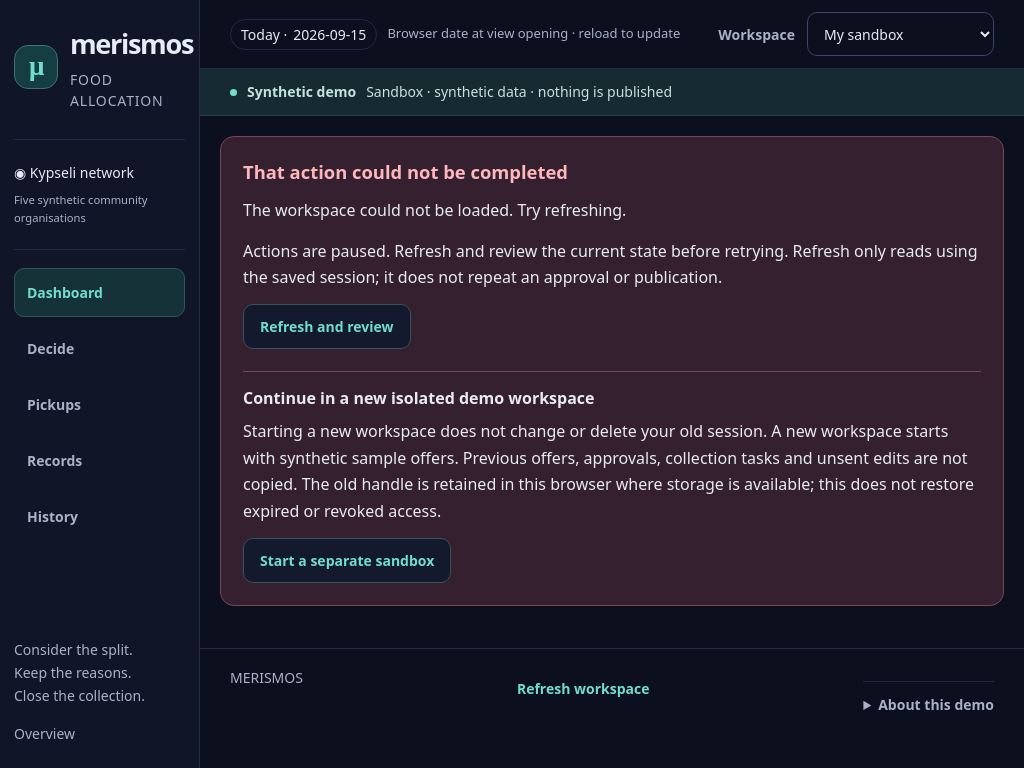
Scenario: refreshes on ordinary failures and safely handles non-Error failures
Check: the message shows "could not be loaded", box x1=243 y1=199 x2=626 y2=221
Click the button "Refresh and review": coordinates (327, 327) x1=243 y1=304 x2=410 y2=349
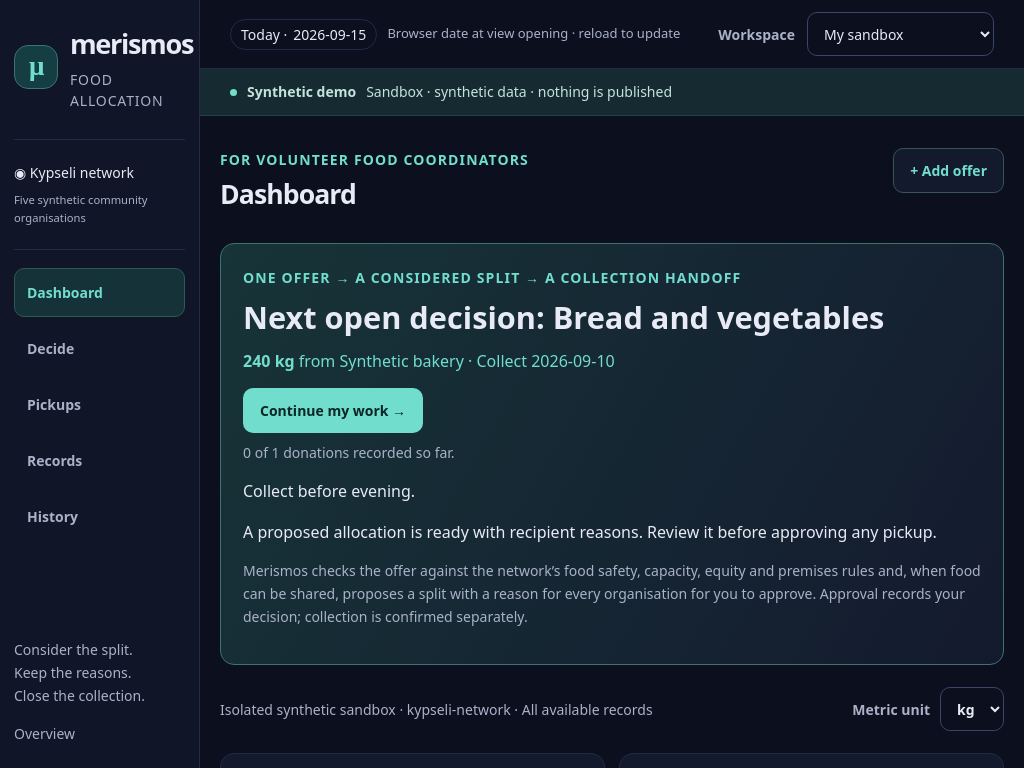
Check: the heading "Dashboard" is shown, box x1=220 y1=176 x2=356 y2=212
